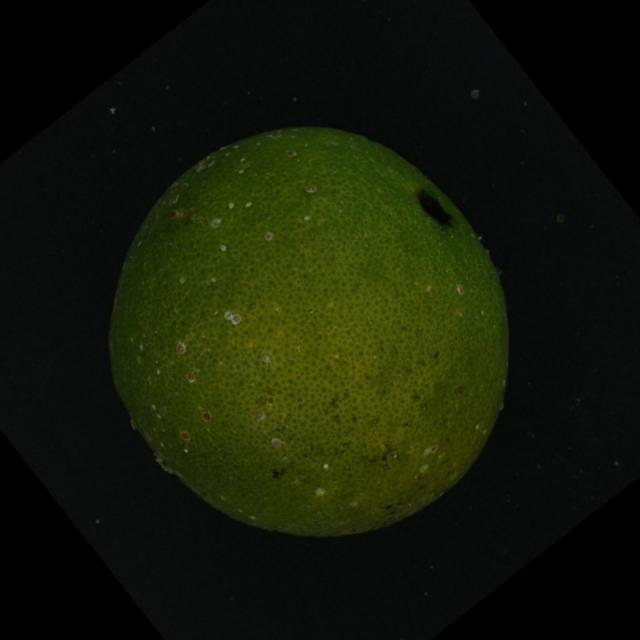grenning: (84, 100, 525, 552)
